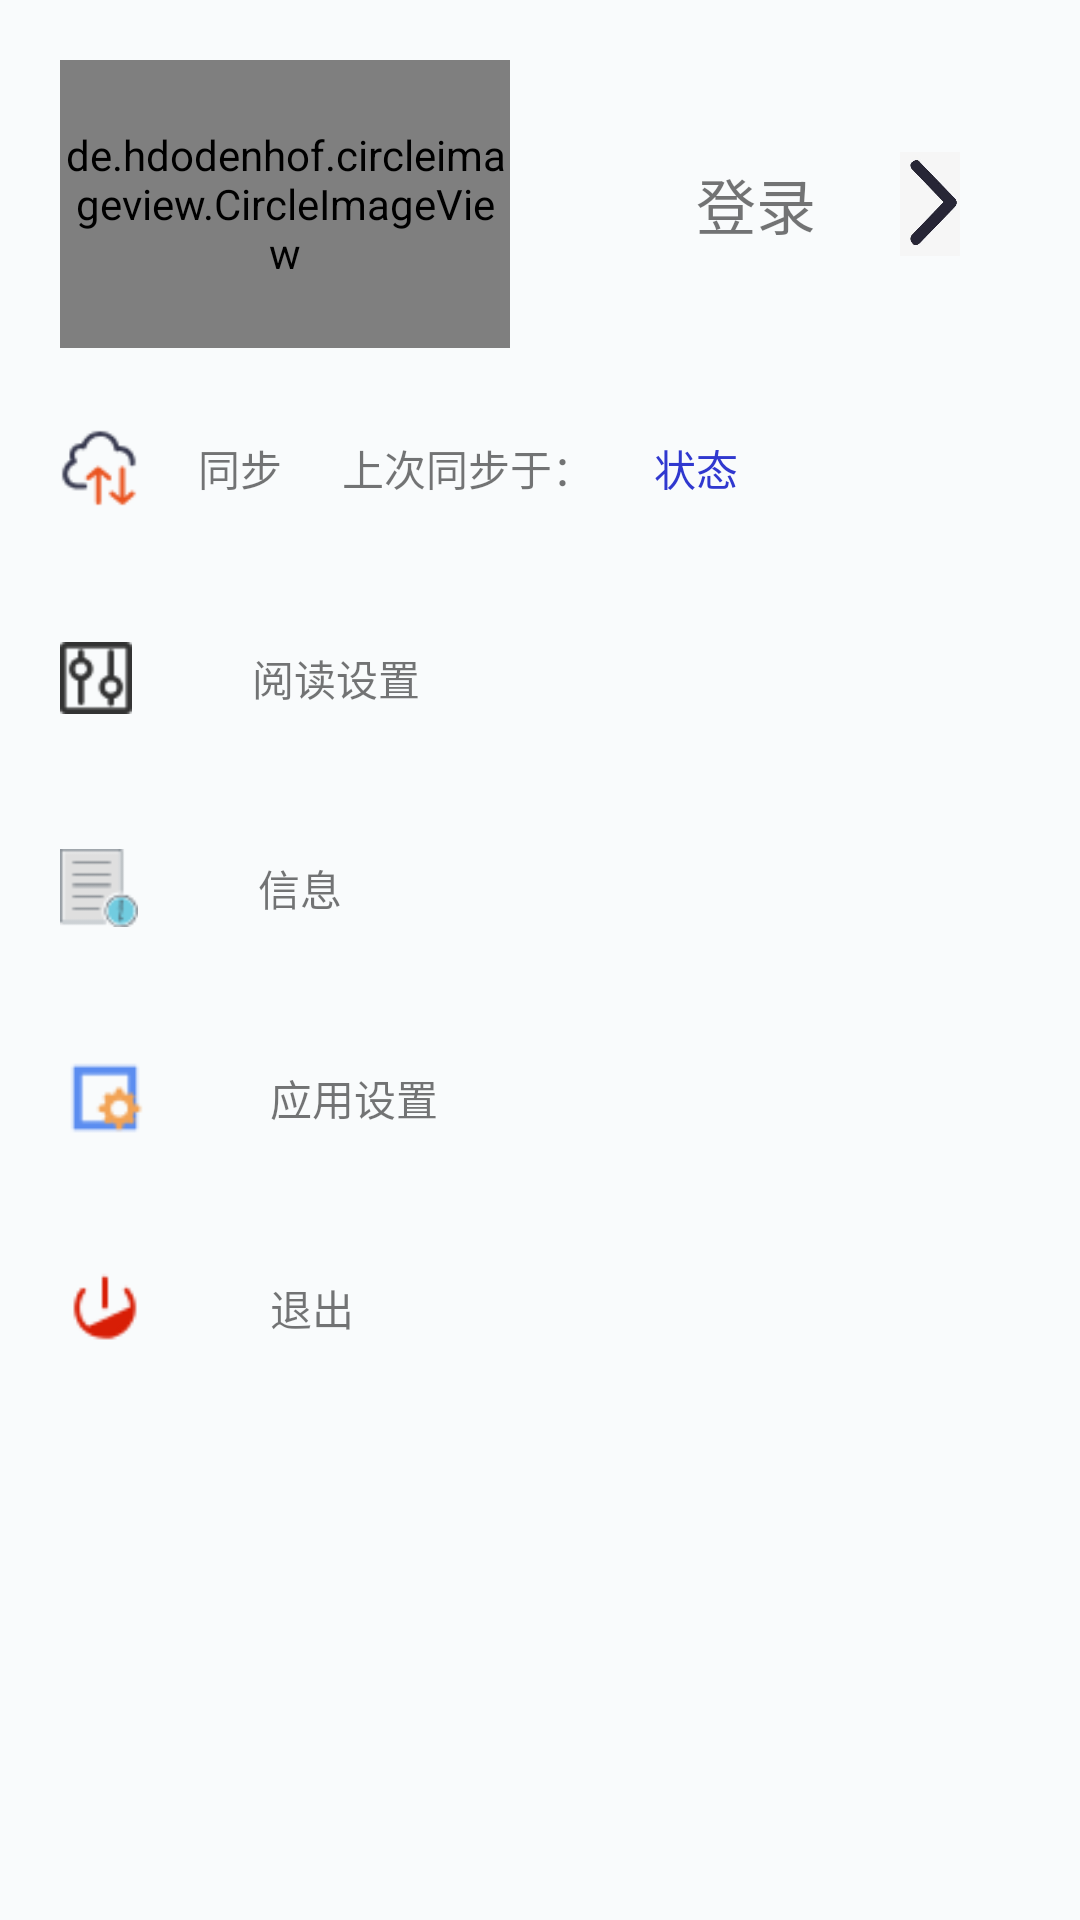

Screen size 1080w x 1920h. Icon name, then its box in pixels as (left=x1, top=y1, right=x2, bottom=y2):
appsetting: (left=72, top=1065, right=142, bottom=1131)
login right: (left=910, top=160, right=957, bottom=245)
message: (left=60, top=849, right=138, bottom=927)
setting: (left=60, top=642, right=132, bottom=714)
update: (left=62, top=431, right=136, bottom=505)
